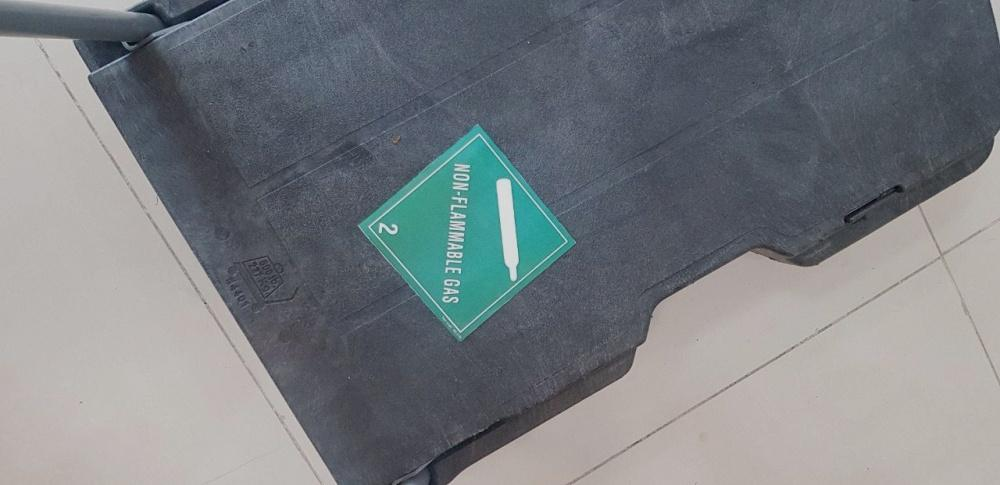non-flammable-gas: (357, 120, 580, 340)
